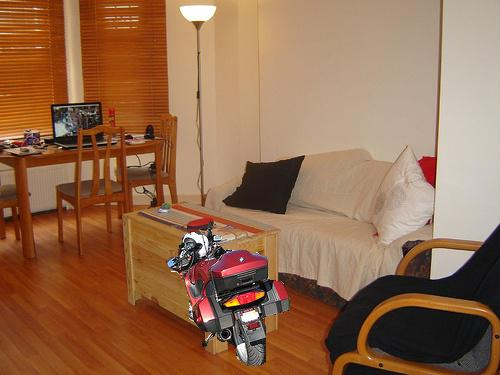tampered: (167, 222, 290, 366)
